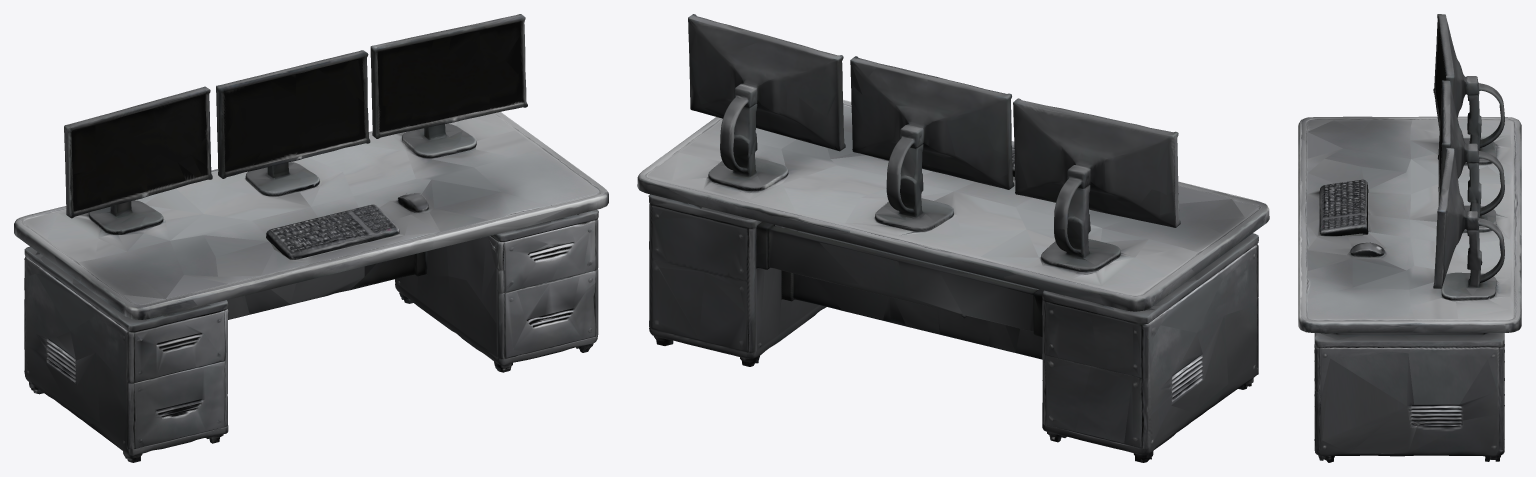
Rendered from control_console.fbx.
The picture shows the model from 3 angles, left to right: view 1: azimuth 30°, elevation 25°; view 2: azimuth 150°, elevation 25°; view 3: azimuth 270°, elevation 25°; orthographic projection. The views are drawn at different scales.
Visible parts, largest first — view 1: control_console; view 2: control_console; view 3: control_console.
Part boxes in pixels (x1,y1,x2,y2): control_console: [14, 14, 608, 462]; control_console: [637, 14, 1269, 462]; control_console: [1298, 14, 1521, 462].
Size of the model in its own units: 2.2 by 1.25 by 1.
Materials: 1 (1 with a texture image).
